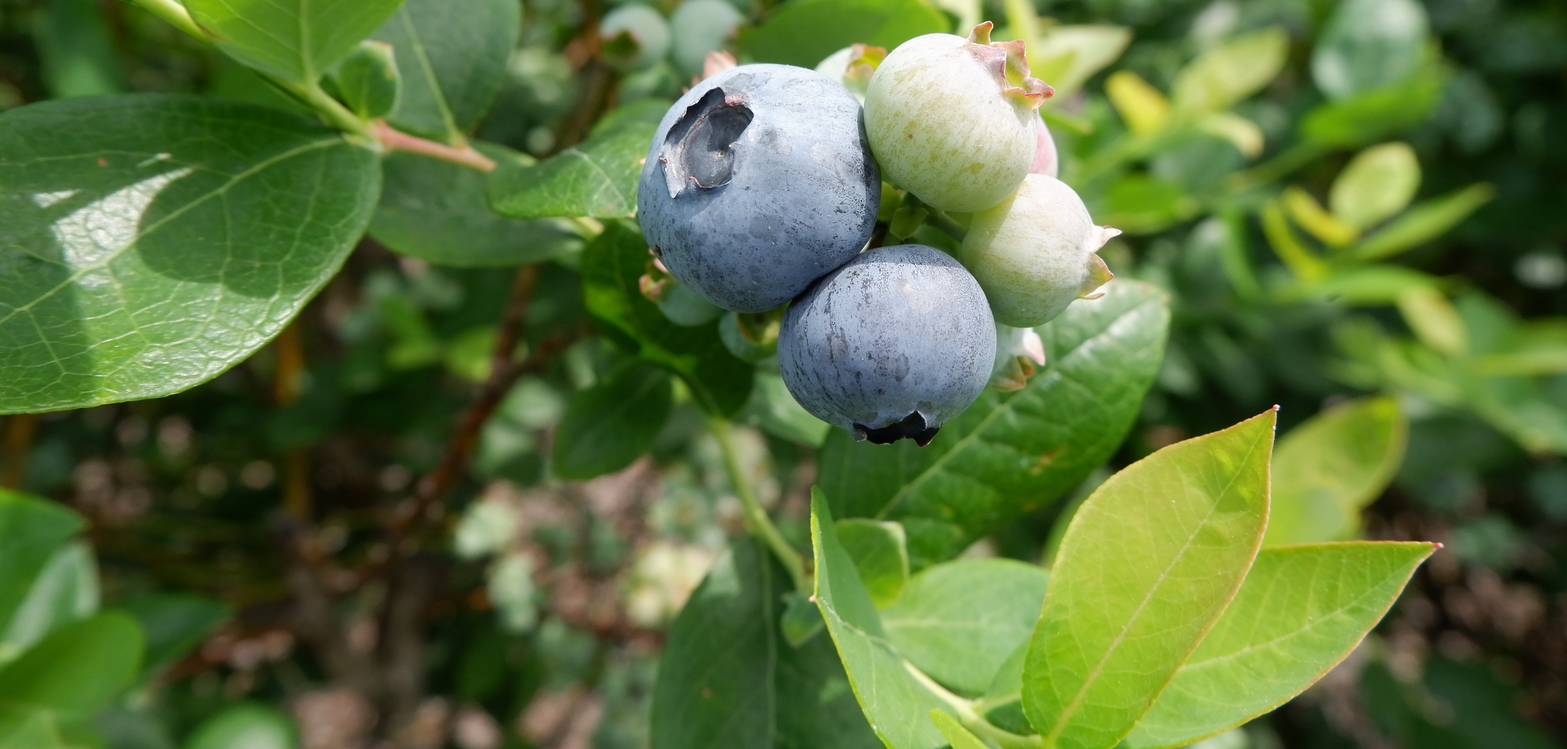Immature: (866, 37, 1046, 212), (960, 178, 1115, 327), (646, 264, 721, 323), (989, 322, 1047, 394), (819, 45, 888, 100), (1030, 118, 1058, 176)
Mature: (642, 64, 874, 305), (781, 245, 997, 437)
